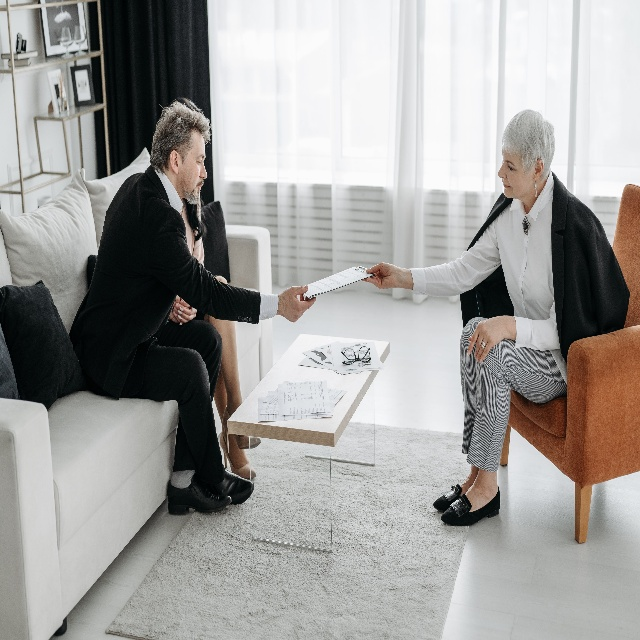Gafas: (341, 345, 371, 365)
Sin_guantes: (466, 314, 505, 363), (277, 285, 316, 323), (362, 262, 396, 290), (169, 299, 189, 323), (178, 306, 197, 326)
